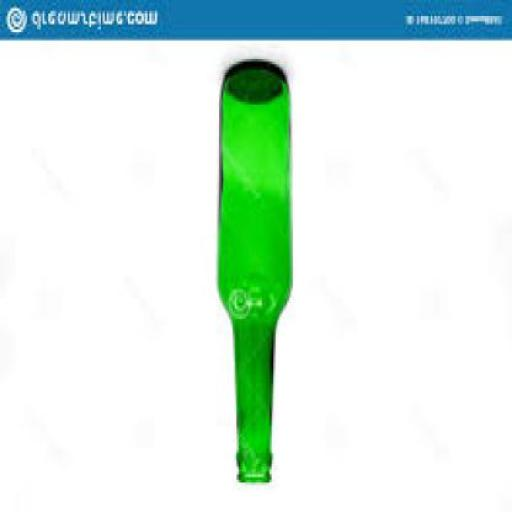glass: (217, 64, 289, 485)
